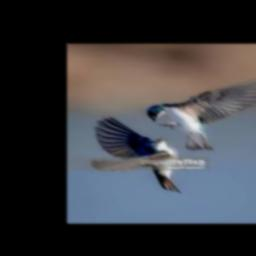Swallow: (147, 72, 256, 151), (92, 117, 181, 192)
